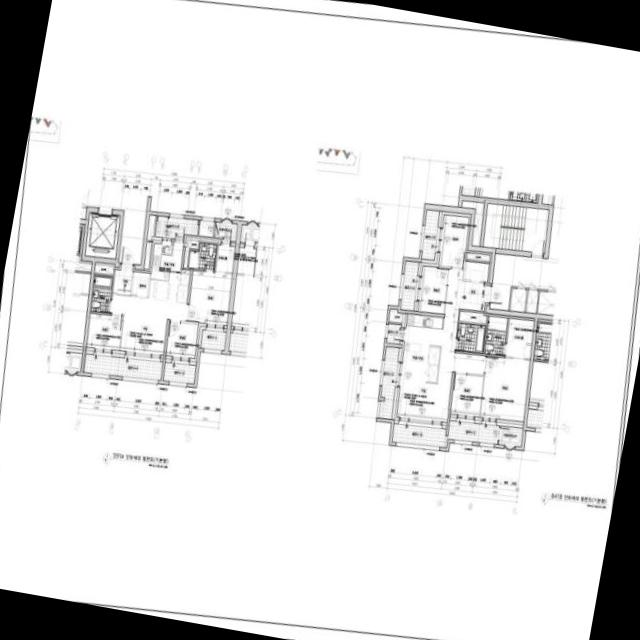background: (0, 0, 640, 640)
space_balconi: (83, 351, 162, 379), (378, 346, 398, 418), (391, 423, 445, 446), (447, 420, 498, 443), (154, 215, 198, 239), (421, 209, 438, 259), (400, 260, 417, 310), (163, 359, 195, 383), (200, 327, 225, 349), (386, 323, 401, 343)
space_bedroom: (480, 355, 529, 424), (187, 270, 231, 324), (438, 210, 469, 267), (418, 265, 447, 313), (450, 373, 482, 416), (86, 313, 122, 349), (165, 321, 197, 357)
space_dressroom: (505, 315, 533, 358), (215, 244, 234, 272)
space_elevator: (85, 207, 119, 258)
space_elevator_hall: (81, 189, 147, 264), (489, 253, 558, 309)
space_front: (458, 261, 490, 310), (112, 264, 132, 295)
space_kitchen: (400, 313, 444, 383), (148, 239, 189, 301)
space_living_room: (394, 268, 485, 421), (110, 293, 186, 358)
space_other: (461, 200, 483, 245), (143, 214, 155, 268), (498, 425, 522, 446), (214, 221, 236, 243), (131, 271, 149, 295), (183, 239, 198, 267), (458, 310, 486, 323), (466, 249, 491, 261), (198, 220, 214, 236), (94, 263, 113, 274), (388, 308, 402, 322)
space_staircase: (483, 203, 548, 252)
space_toilet: (484, 313, 507, 354), (455, 322, 485, 353), (90, 274, 112, 312), (188, 242, 216, 270)
